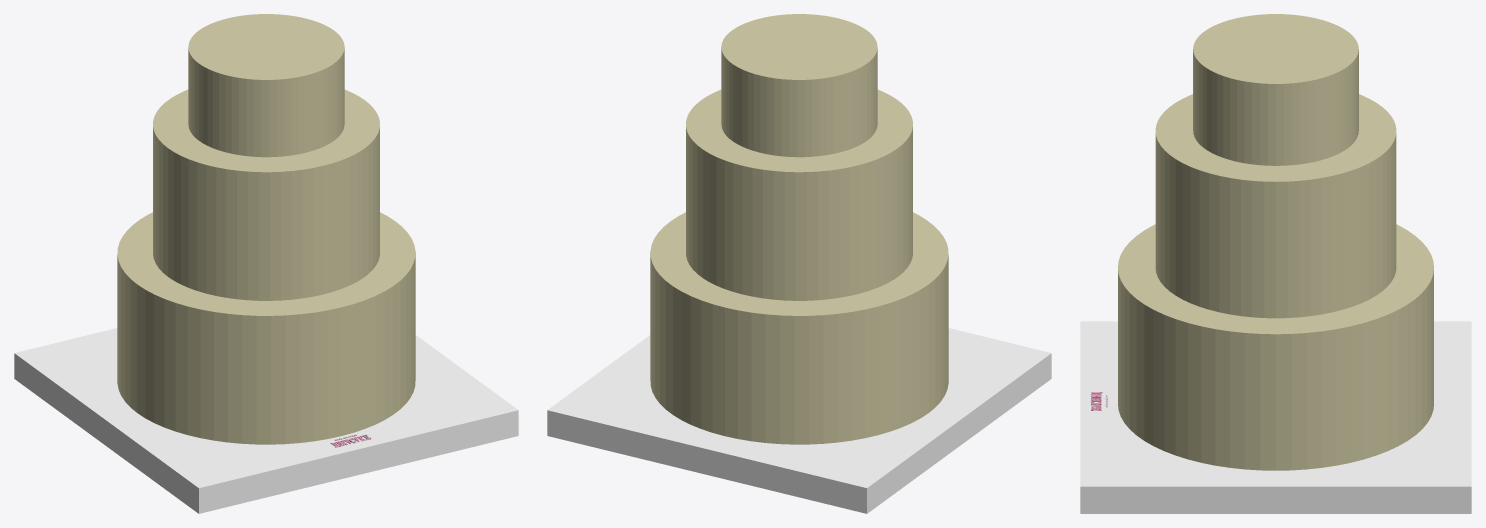
Rendered from cake_tier3_8-6-4_layers2_v35.glb.
The picture shows the model from 3 angles, left to right: view 1: azimuth 30°, elevation 25°; view 2: azimuth 150°, elevation 25°; view 3: azimuth 270°, elevation 25°; orthographic projection. The views are drawn at different scales.
Parts seen in each view (by area): view 1: Tier1_8in, Tier2_6in, Board, Tier3_4in; view 2: Tier1_8in, Tier2_6in, Board, Tier3_4in; view 3: Tier1_8in, Tier2_6in, Board, Tier3_4in.
Part boxes in pixels (<box>): Tier1_8in: <box>117,212,415,444</box>; Tier2_6in: <box>153,89,379,300</box>; Board: <box>14,328,518,513</box>; Tier3_4in: <box>188,14,344,157</box>; Tier1_8in: <box>650,212,948,444</box>; Tier2_6in: <box>686,89,912,300</box>; Board: <box>547,328,1051,513</box>; Tier3_4in: <box>721,14,877,157</box>; Tier1_8in: <box>1118,224,1433,470</box>; Tier2_6in: <box>1155,94,1396,318</box>; Board: <box>1080,321,1471,513</box>; Tier3_4in: <box>1193,14,1358,165</box>.
Size of the model in its own units: 0.26 by 0.28 by 0.26.
